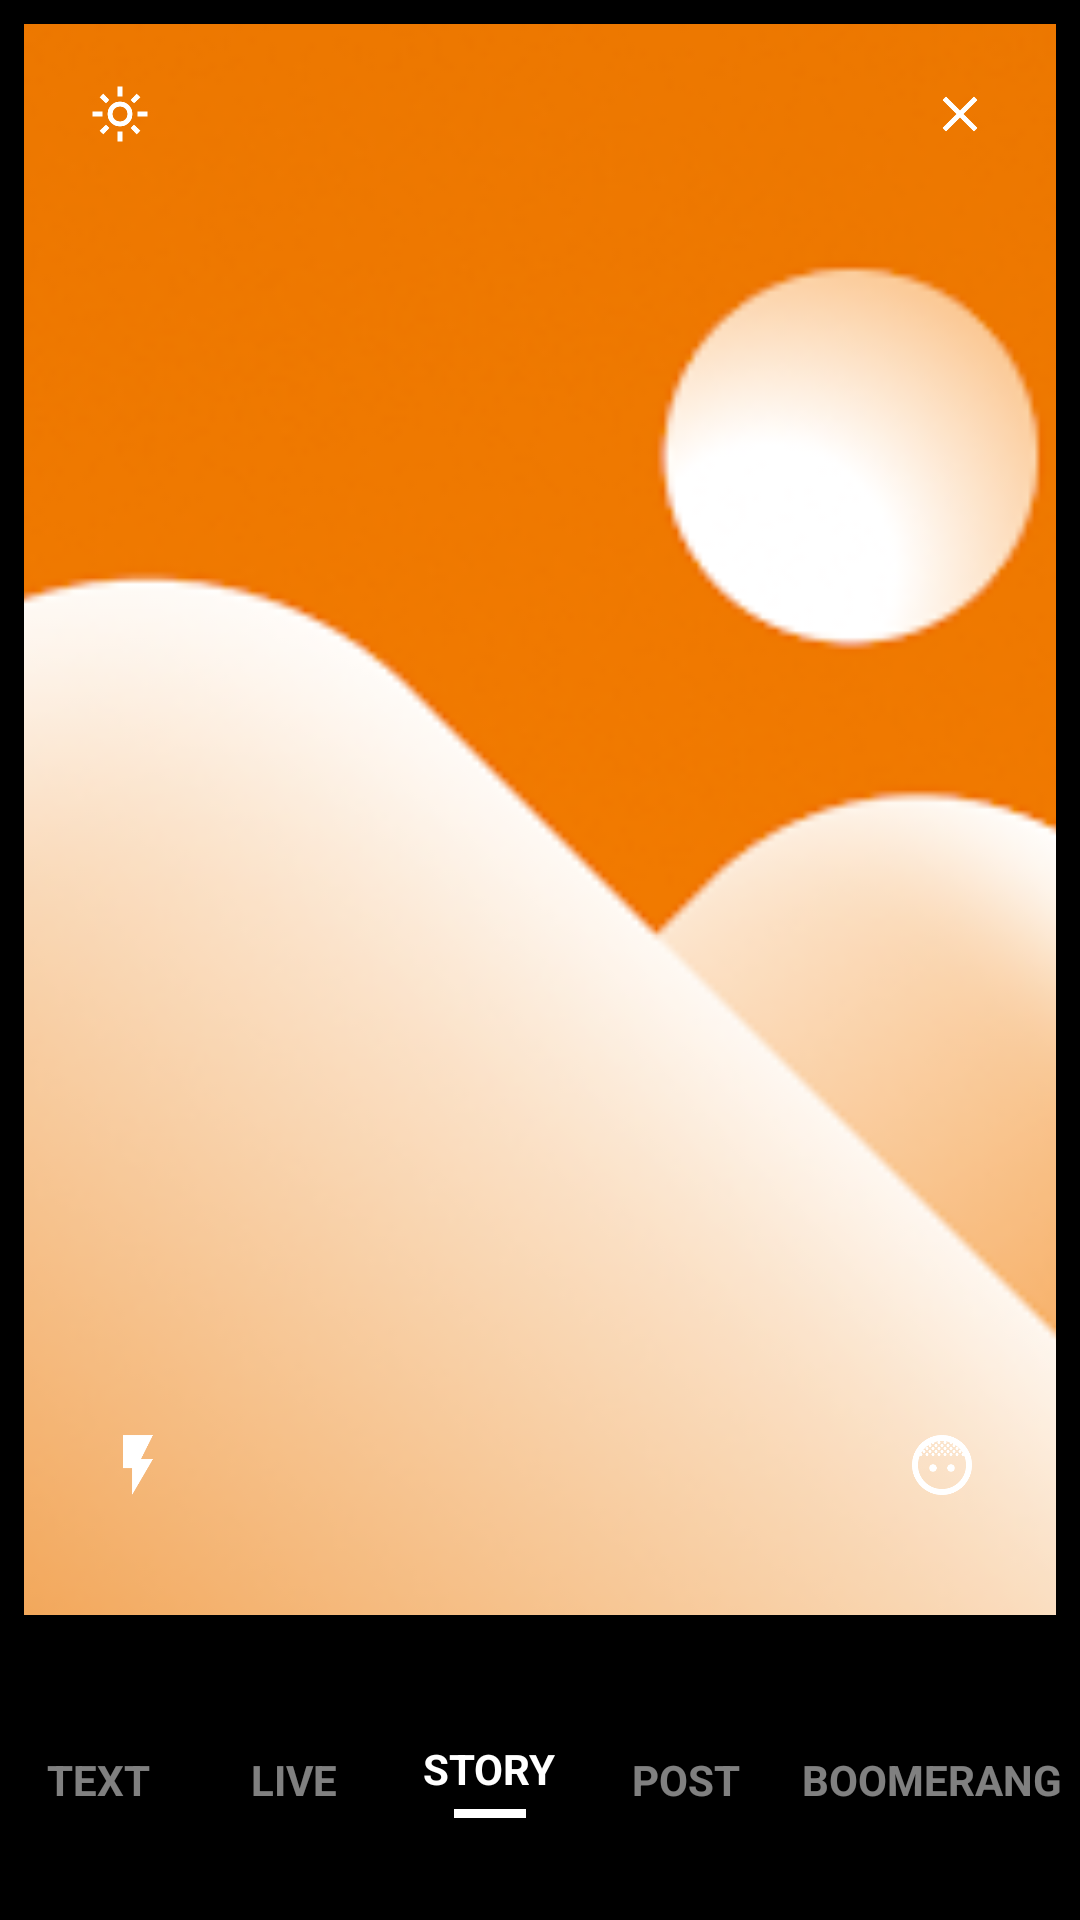

Named icons in this screenshot (1080×1920) and their centers, (x,y):
close: (960,114)
flash: (138,1464)
